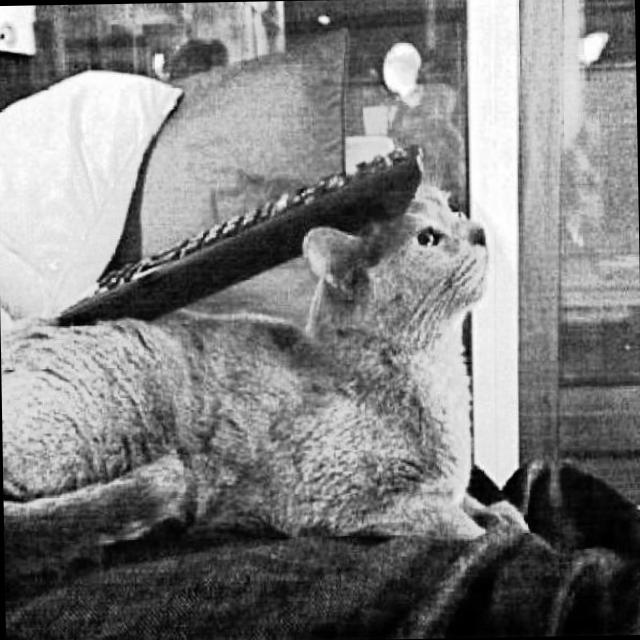Cat: (0, 170, 499, 589)
